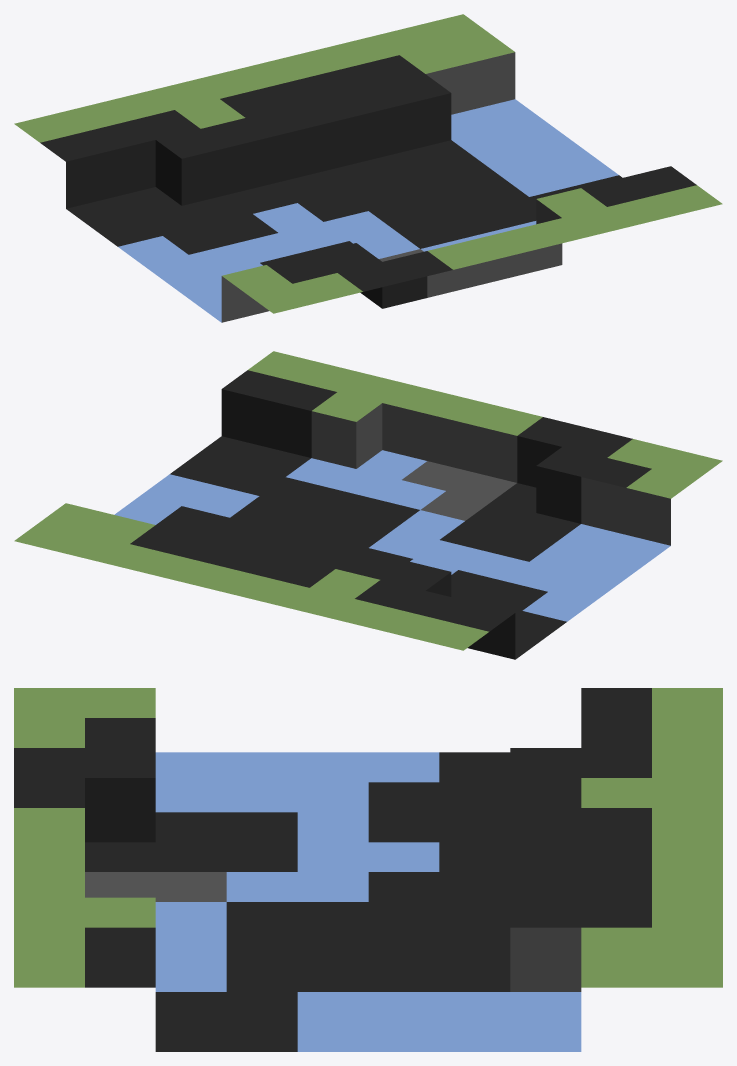
The model's file is terrain_river_polluted_2.fbx.
3 views of the same model, one above another, from view 1: azimuth 30°, elevation 25°; view 2: azimuth 150°, elevation 25°; view 3: azimuth 270°, elevation 25° (orthographic). The views are drawn at different scales.
Visible parts, largest first — view 1: Grid.078; view 2: Grid.078; view 3: Grid.078.
Part boxes in pixels (bbox=[...]): Grid.078: bbox=[14, 14, 722, 322]; Grid.078: bbox=[14, 351, 722, 659]; Grid.078: bbox=[14, 688, 722, 1051].
Bounding box in the file's own units: 200 × 20 × 200.
